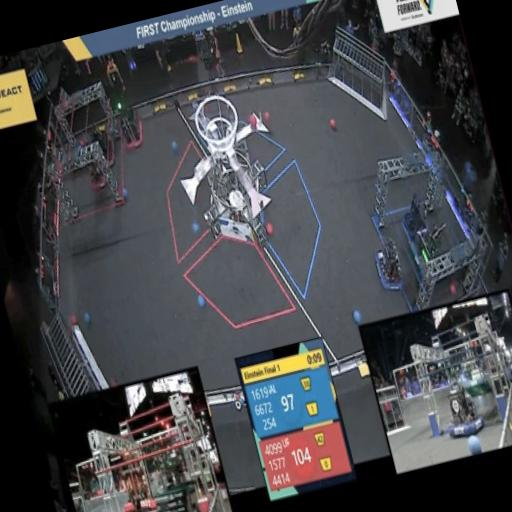robot: (408, 230, 454, 292), (108, 88, 148, 154), (392, 190, 436, 247), (369, 240, 408, 300), (84, 116, 120, 170), (80, 144, 112, 200)
